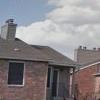Chimney: (3, 14, 22, 47)
